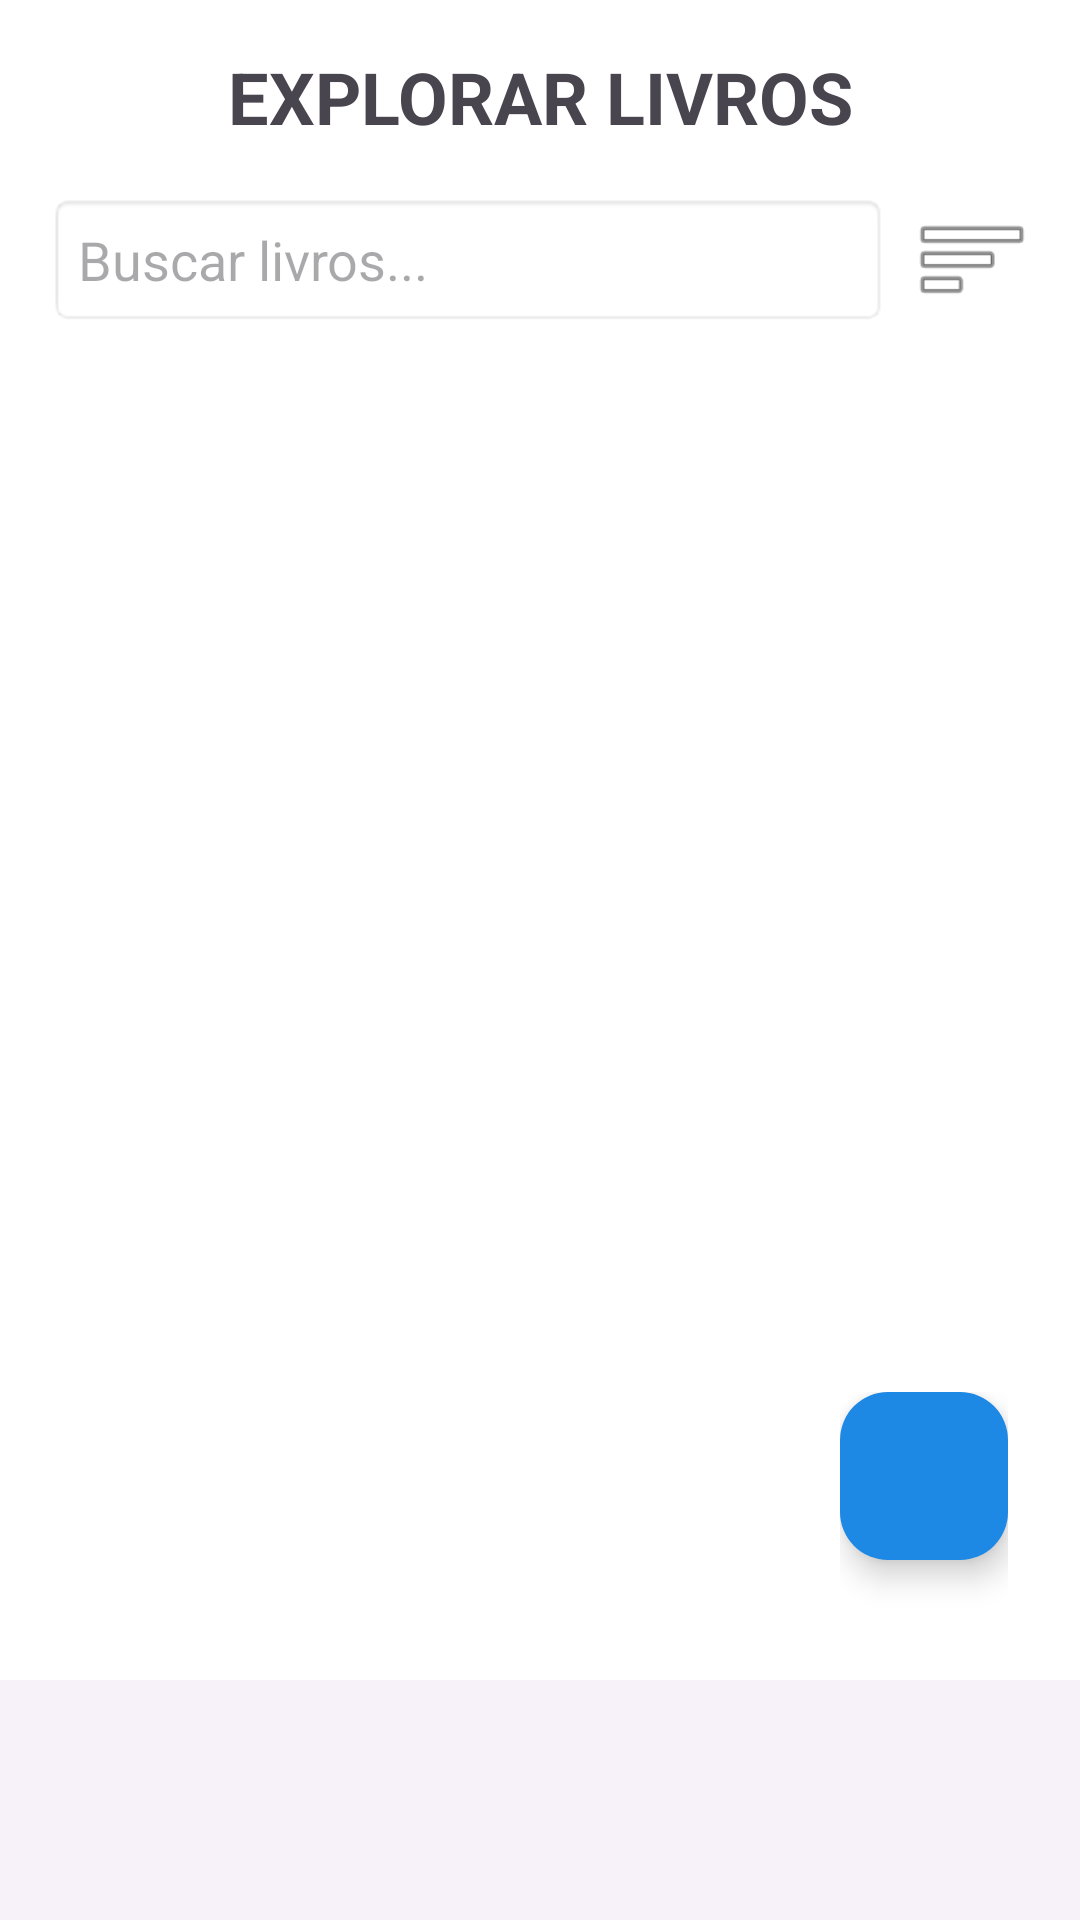

Where icons sit on this 1080x1920 app screen, as (x1, y1, x2, y2):
Filtro: (920, 226, 1024, 293)
